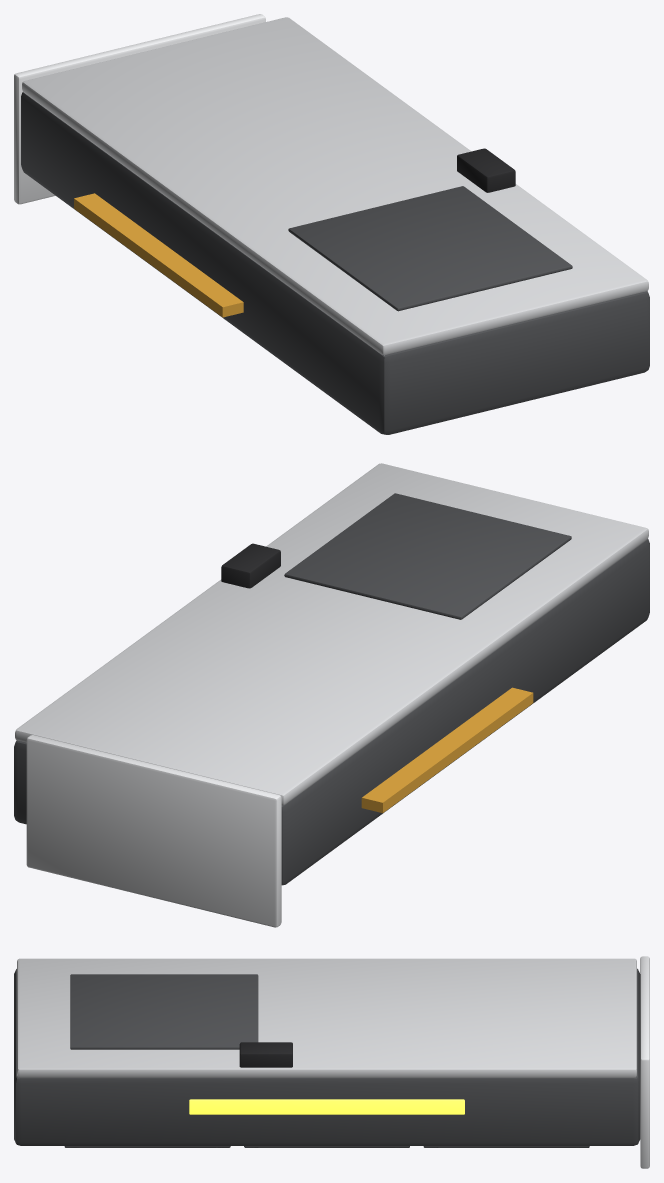
The model's file is gpu_rtx5070.glb.
3 views of the same model, one above another, from view 1: azimuth 30°, elevation 25°; view 2: azimuth 150°, elevation 25°; view 3: azimuth 270°, elevation 25° (orthographic). The views are drawn at different scales.
Visible parts, largest first — view 1: RTX5070_Body; view 2: RTX5070_Body; view 3: RTX5070_Body, RGB_RTX5070_Bar, RTX5070_F0_Frame, RTX5070_F2_Frame, RTX5070_F1_Frame.
Boxes of the visible parts, box(x1,y1,x2,y2) form: RTX5070_Body: box(14, 14, 649, 434); RTX5070_Body: box(14, 463, 649, 927); RTX5070_Body: box(14, 956, 649, 1168); RGB_RTX5070_Bar: box(189, 1099, 464, 1114); RTX5070_F0_Frame: box(64, 1146, 230, 1147); RTX5070_F2_Frame: box(423, 1146, 589, 1147); RTX5070_F1_Frame: box(244, 1146, 409, 1147).
Size of the model in its own units: 1.21 by 0.5558 by 2.62.
